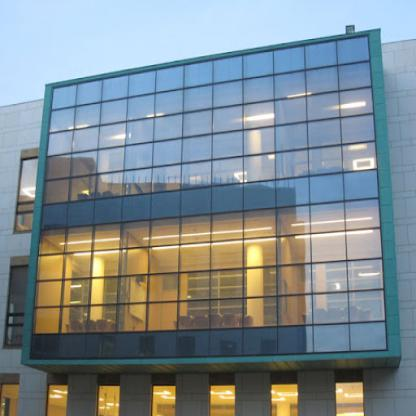window: (317, 298, 344, 320), (349, 204, 376, 225), (282, 300, 310, 320), (317, 267, 343, 288), (312, 209, 339, 229), (350, 235, 378, 254), (316, 238, 342, 258), (353, 297, 380, 316), (182, 277, 206, 298), (346, 148, 371, 168), (214, 274, 239, 294), (214, 305, 240, 324), (249, 304, 274, 323), (284, 240, 308, 259), (215, 246, 239, 264), (250, 273, 274, 291), (343, 96, 370, 112), (284, 272, 309, 289), (184, 249, 206, 268), (152, 307, 174, 326), (154, 278, 174, 298), (184, 308, 206, 326), (124, 253, 145, 271), (160, 69, 181, 87), (341, 69, 366, 84), (184, 222, 206, 239), (352, 266, 374, 283), (124, 308, 143, 327), (312, 127, 336, 142), (154, 251, 174, 269), (124, 280, 142, 300), (215, 63, 239, 78), (249, 218, 272, 233), (66, 310, 84, 329), (346, 122, 370, 136), (216, 165, 237, 181), (313, 101, 335, 116), (94, 310, 112, 328), (316, 154, 339, 168), (250, 247, 273, 261), (247, 58, 270, 72), (155, 172, 175, 188), (217, 220, 238, 235), (216, 113, 240, 126), (154, 226, 176, 240), (217, 88, 239, 102), (70, 258, 88, 275), (96, 283, 113, 301), (284, 214, 303, 230), (186, 168, 206, 183), (280, 106, 301, 120), (217, 138, 238, 152), (281, 158, 302, 172), (342, 42, 363, 56), (309, 48, 330, 62), (127, 226, 144, 243), (97, 257, 114, 274), (42, 259, 58, 277), (68, 284, 86, 300), (277, 54, 299, 67), (188, 92, 210, 105), (74, 156, 93, 171), (249, 134, 269, 148), (186, 143, 206, 157), (250, 160, 270, 174), (280, 78, 300, 92), (159, 98, 179, 112), (282, 131, 303, 144), (99, 230, 115, 247), (41, 285, 57, 302), (129, 176, 148, 190), (188, 68, 207, 82), (249, 84, 268, 98), (188, 116, 208, 129), (45, 234, 61, 250), (130, 124, 148, 138), (76, 134, 94, 148), (158, 146, 176, 160), (130, 150, 148, 164), (159, 121, 178, 134), (249, 110, 269, 122), (106, 153, 121, 169), (108, 79, 124, 94), (103, 129, 121, 142), (70, 234, 88, 247), (53, 136, 69, 150), (51, 160, 67, 174), (50, 186, 66, 200), (40, 312, 54, 328), (105, 106, 123, 118), (132, 102, 148, 115), (102, 180, 118, 193), (55, 115, 69, 129), (80, 110, 96, 122), (133, 78, 149, 90), (57, 91, 71, 104), (81, 88, 96, 99), (312, 77, 332, 85), (76, 184, 90, 195)
